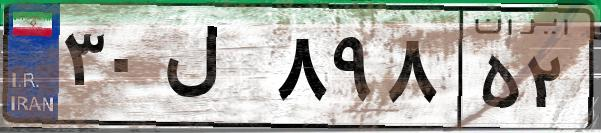0: (110, 28, 158, 98)
2: (525, 38, 570, 115)
3: (57, 26, 110, 100)
5: (475, 38, 525, 113)
8: (270, 28, 330, 110), (385, 28, 445, 110)
9: (330, 28, 385, 110)
ل: (158, 20, 270, 120)
